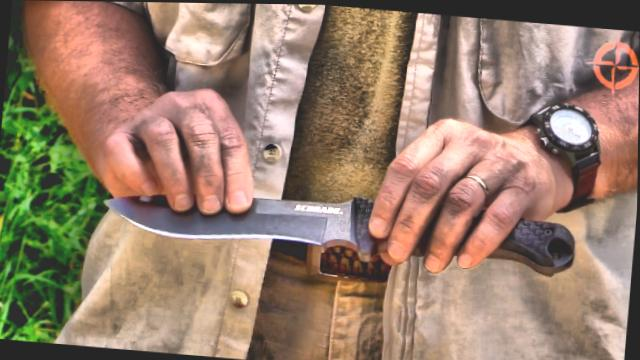knife: (85, 164, 584, 287)
